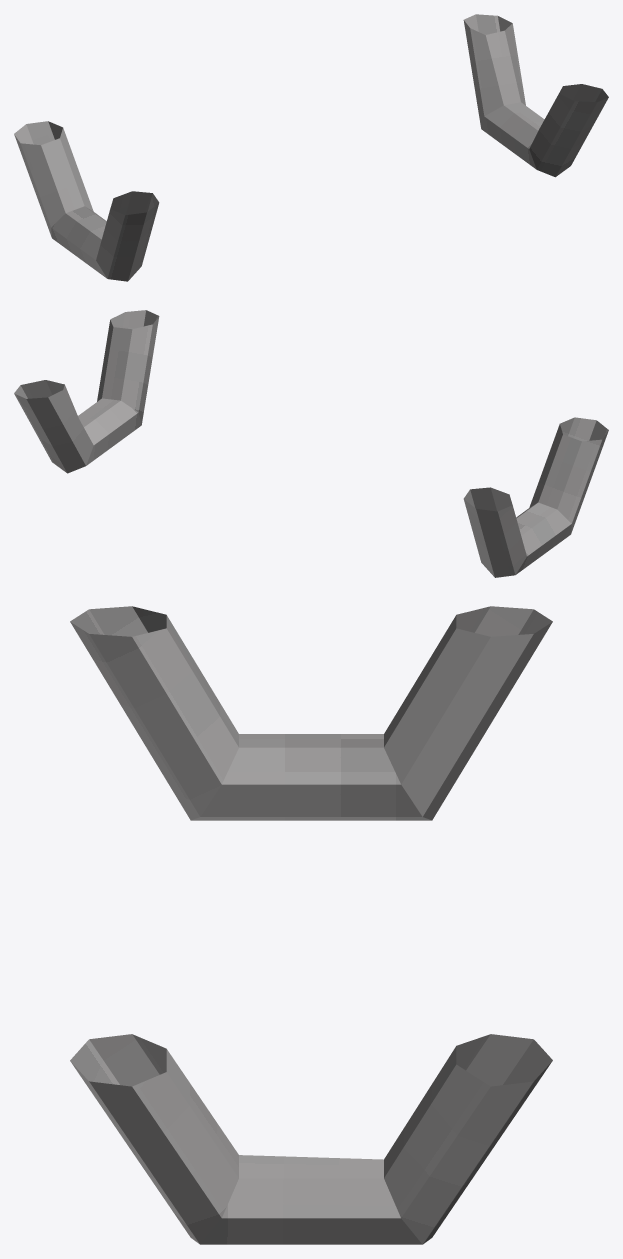
Rendered from shield-handles.obj.
3 renders of one model, top to bottom at view 1: azimuth 30°, elevation 25°; view 2: azimuth 150°, elevation 25°; view 3: azimuth 270°, elevation 25°, orthographic. The views are drawn at different scales.
Visible parts, largest first — view 1: Torus; view 2: Torus; view 3: Torus.
Part boxes in pixels (x1,y1,x2,y2): Torus: [14, 14, 608, 281]; Torus: [14, 310, 608, 577]; Torus: [70, 606, 552, 1244].
Bounding box in the file's own units: 0.8941 × 0.1681 × 0.38.
